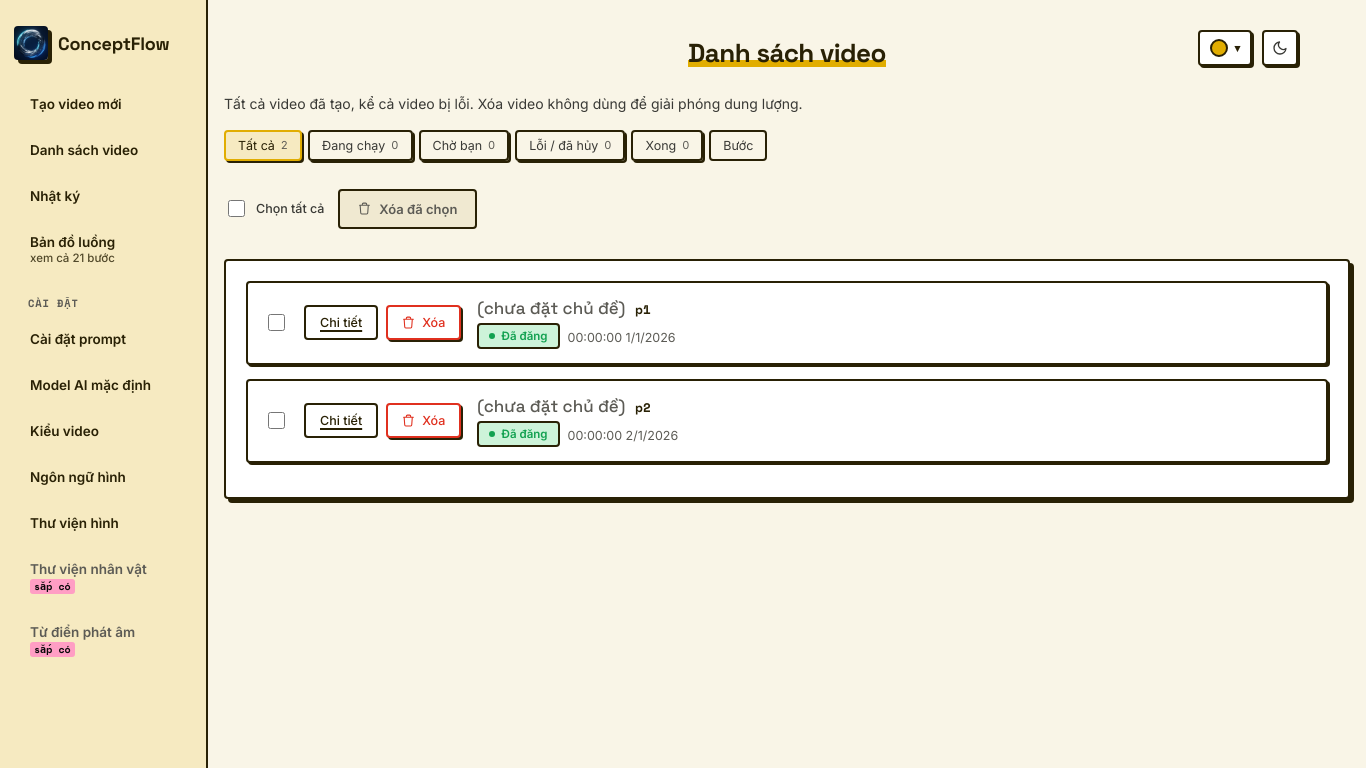
VideoListPage › selects all videos via the header checkbox
The image size is (1366, 768).
Expected: the element with test id "video-row-p1" is shown, [246,281,1328,365]
Click the checkbox labelled "Chọn tất cả": (236,209) [228,200,245,217]
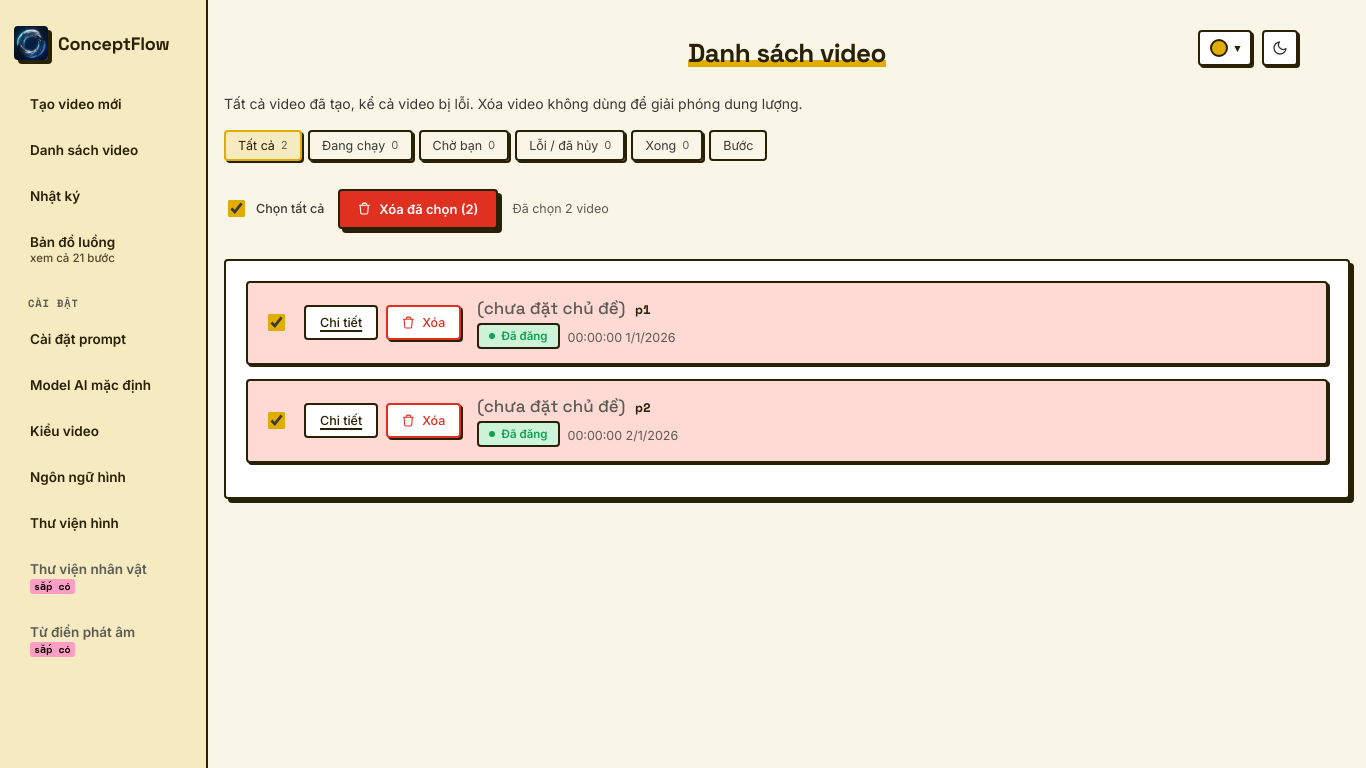
Expected: the text "Đã chọn 2 video" is shown, [512,201,609,216]
Expected: the button with test id "bulk-delete-button" is enabled, [338,189,498,229]
